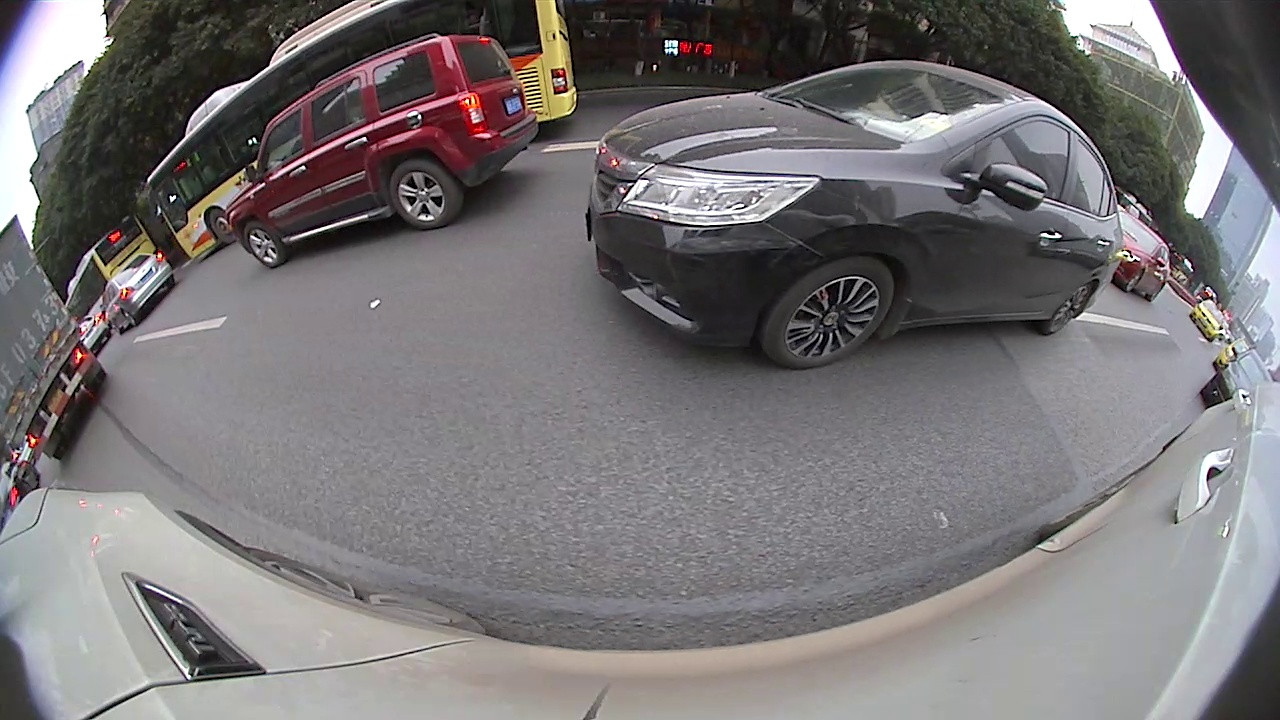bus: (146, 1, 576, 266), (63, 213, 157, 323)
car: (588, 60, 1119, 373), (226, 34, 540, 267), (97, 252, 174, 333), (1114, 210, 1172, 301), (1200, 350, 1276, 408), (1191, 298, 1229, 343)
front: (758, 254, 896, 368), (243, 219, 291, 266), (209, 208, 237, 244), (1120, 268, 1144, 293)
rear: (390, 159, 464, 229), (1036, 280, 1095, 336), (122, 309, 139, 327)
truck: (3, 213, 108, 466)
